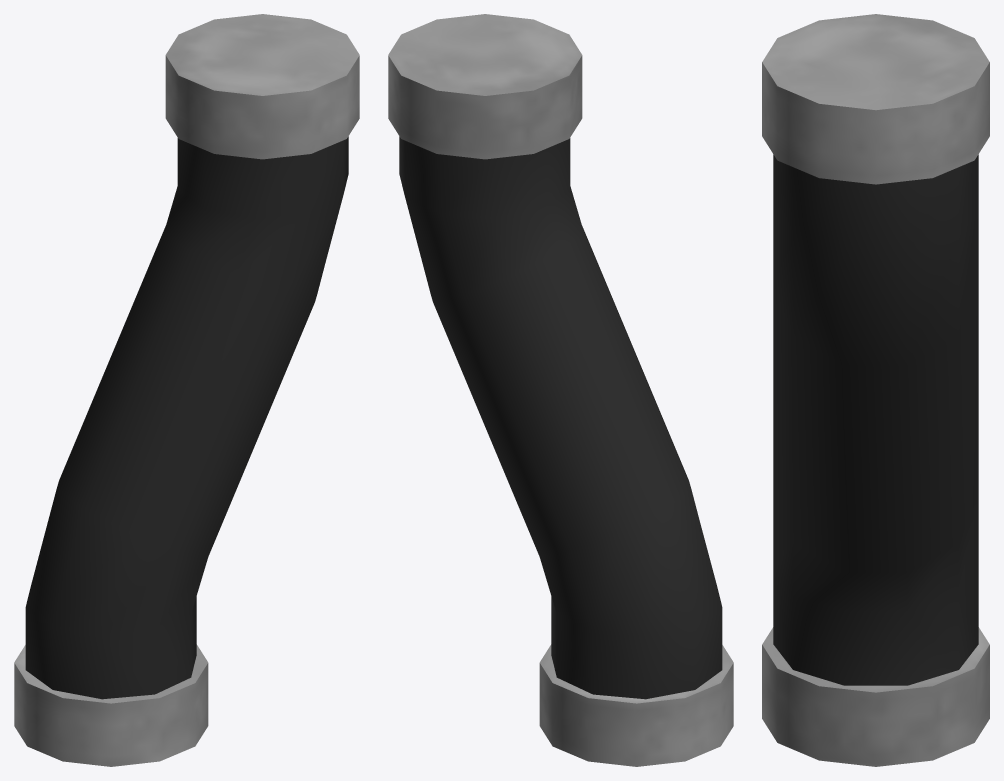
File: Rigid_Conduit_1X_S_Curve_Shorter.fbx
3 renders of one model, left to right at view 1: azimuth 30°, elevation 25°; view 2: azimuth 150°, elevation 25°; view 3: azimuth 270°, elevation 25°, orthographic. The views are drawn at different scales.
Visible parts, largest first — view 1: Rigid_Conduit_1X_S_Curve_Shorter; view 2: Rigid_Conduit_1X_S_Curve_Shorter; view 3: Rigid_Conduit_1X_S_Curve_Shorter.
Boxes of the visible parts, x1,y1,x2,y2 form: Rigid_Conduit_1X_S_Curve_Shorter: [14, 14, 359, 766]; Rigid_Conduit_1X_S_Curve_Shorter: [388, 14, 733, 766]; Rigid_Conduit_1X_S_Curve_Shorter: [762, 14, 989, 766].
Size of the model in its own units: 0.1055 by 0.2 by 0.0555.
